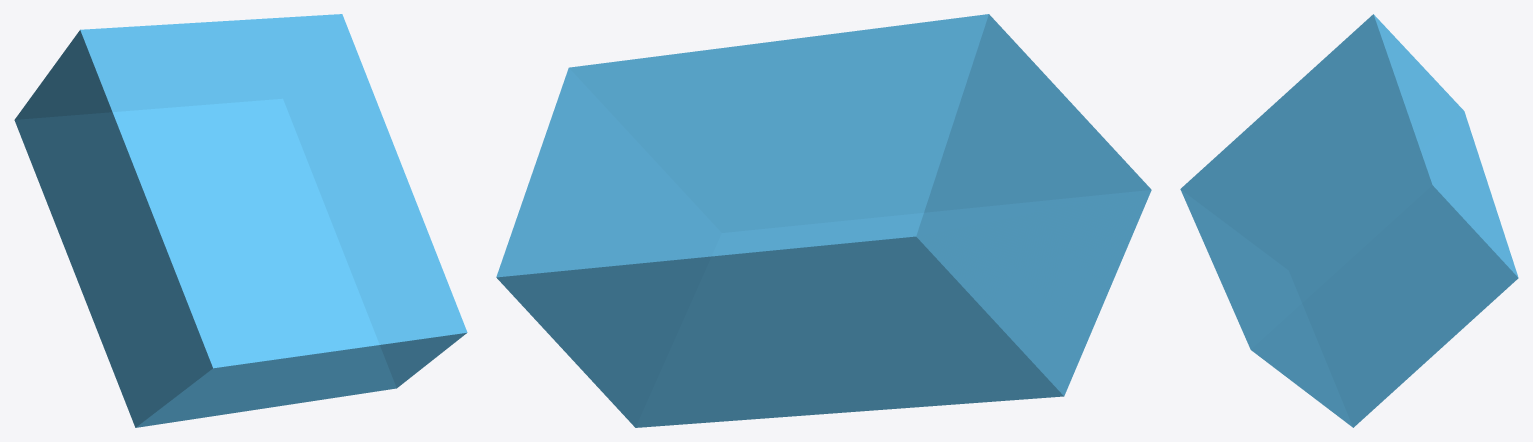
Rendered from Event_420107950_HErechit_4.fbx.
3 renders of one model, left to right at view 1: azimuth 30°, elevation 25°; view 2: azimuth 150°, elevation 25°; view 3: azimuth 270°, elevation 25°, orthographic. The views are drawn at different scales.
Parts seen in each view (by area): view 1: Model; view 2: Model; view 3: Model.
Part boxes in pixels (x1,y1,x2,y2): Model: (14, 14, 467, 427); Model: (496, 14, 1151, 427); Model: (1180, 14, 1518, 427).
Bounding box in the file's own units: 0.6405 × 0.8451 × 0.8451.
